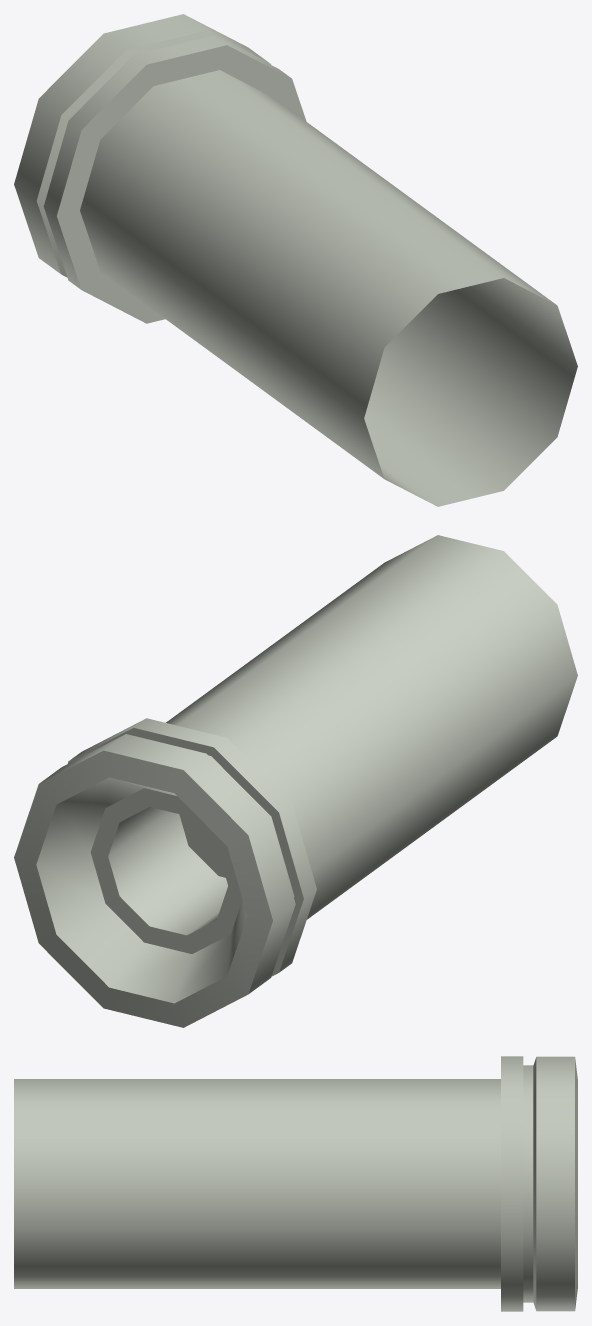
Rendered from SM_pipe_modular_gray_D.fbx.
The picture shows the model from 3 angles, top to bottom: view 1: azimuth 30°, elevation 25°; view 2: azimuth 150°, elevation 25°; view 3: azimuth 270°, elevation 25°; orthographic projection. The views are drawn at different scales.
Visible parts, largest first — view 1: pCylinder88; view 2: pCylinder88; view 3: pCylinder88.
Boxes of the visible parts, x1,y1,x2,y2 form: pCylinder88: (14,14,577,506); pCylinder88: (14,535,577,1027); pCylinder88: (14,1056,577,1311).
Bounding box in the file's own units: 122 × 116 × 267.
